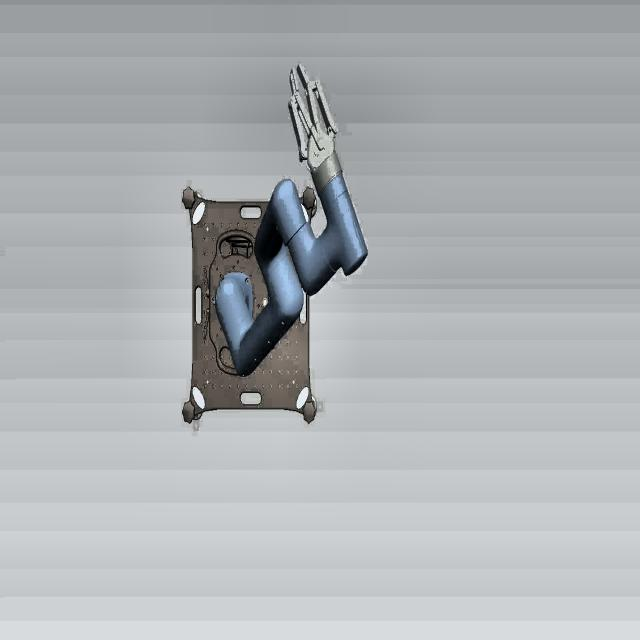robot: (212, 62, 368, 388)
